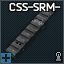SOK-12 CSS rear sight rail mount: (0, 0, 64, 64)
